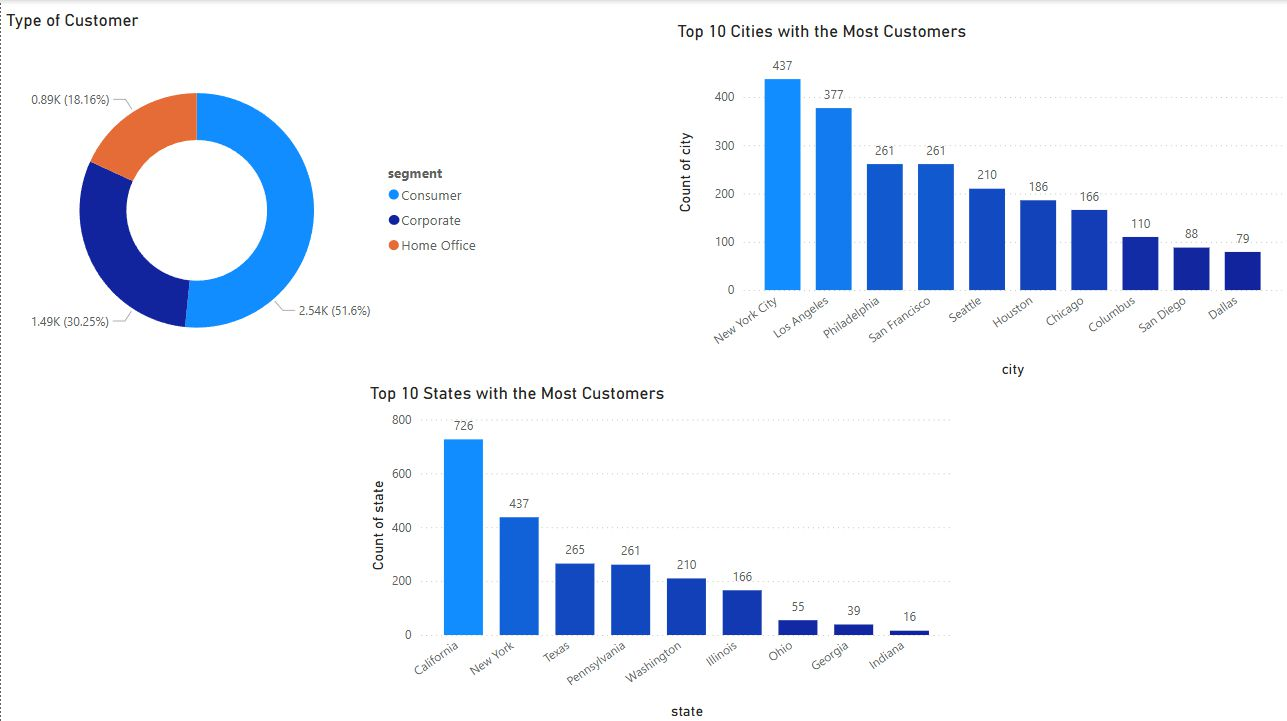

What the dashboard file says about the page in this screenshot:
{"tool":"powerbi","page":{"name":"Customer","canvas":[1280,720],"ordinal":0},"visuals":[{"type":"donutChart","title":"Type of Customer","fields":{"Category":["public dim_customer.segment"],"Y":["CountNonNull(public dim_customer.segment)"]},"box":[0,9.6,487.1,380.1],"z":0},{"type":"clusteredColumnChart","title":"Top 10 Cities with the Most Customers","fields":{"Category":["public dim_customer.city"],"Y":["CountNonNull(public dim_customer.city)"]},"box":[668.3,20.6,612,359.5],"z":1000},{"type":"clusteredColumnChart","title":"Top 10 States with the Most Customers","fields":{"Category":["public dim_customer.state"],"Y":["CountNonNull(public dim_customer.state)"]},"box":[362.3,380.1,590.1,340.3],"z":2000}]}

Visuals, with their boxes in screenshot pixels (x1, y1, x2, y2), scaled from the page's 1280x720 canvas onto the 1287x721 screenshot:
"Type of Customer" donutChart: <region>0, 10, 490, 390</region>
"Top 10 Cities with the Most Customers" clusteredColumnChart: <region>672, 21, 1286, 381</region>
"Top 10 States with the Most Customers" clusteredColumnChart: <region>364, 381, 958, 720</region>
